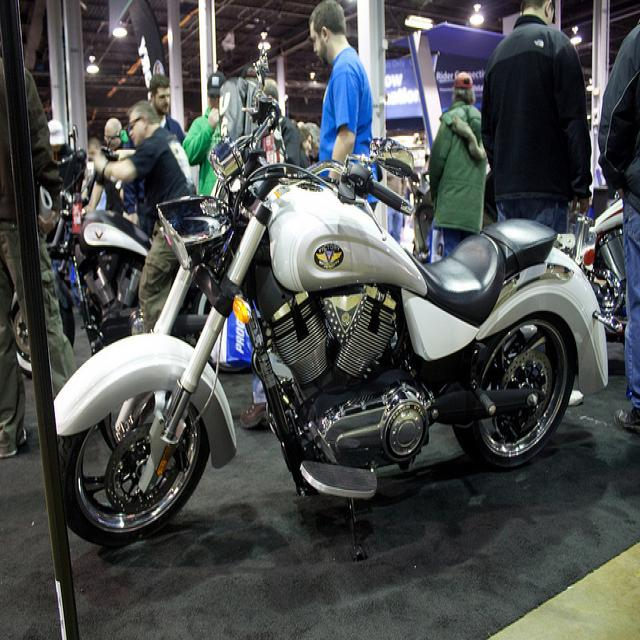motor: (55, 24, 623, 558), (68, 124, 154, 354), (14, 267, 77, 378), (583, 195, 626, 325)
